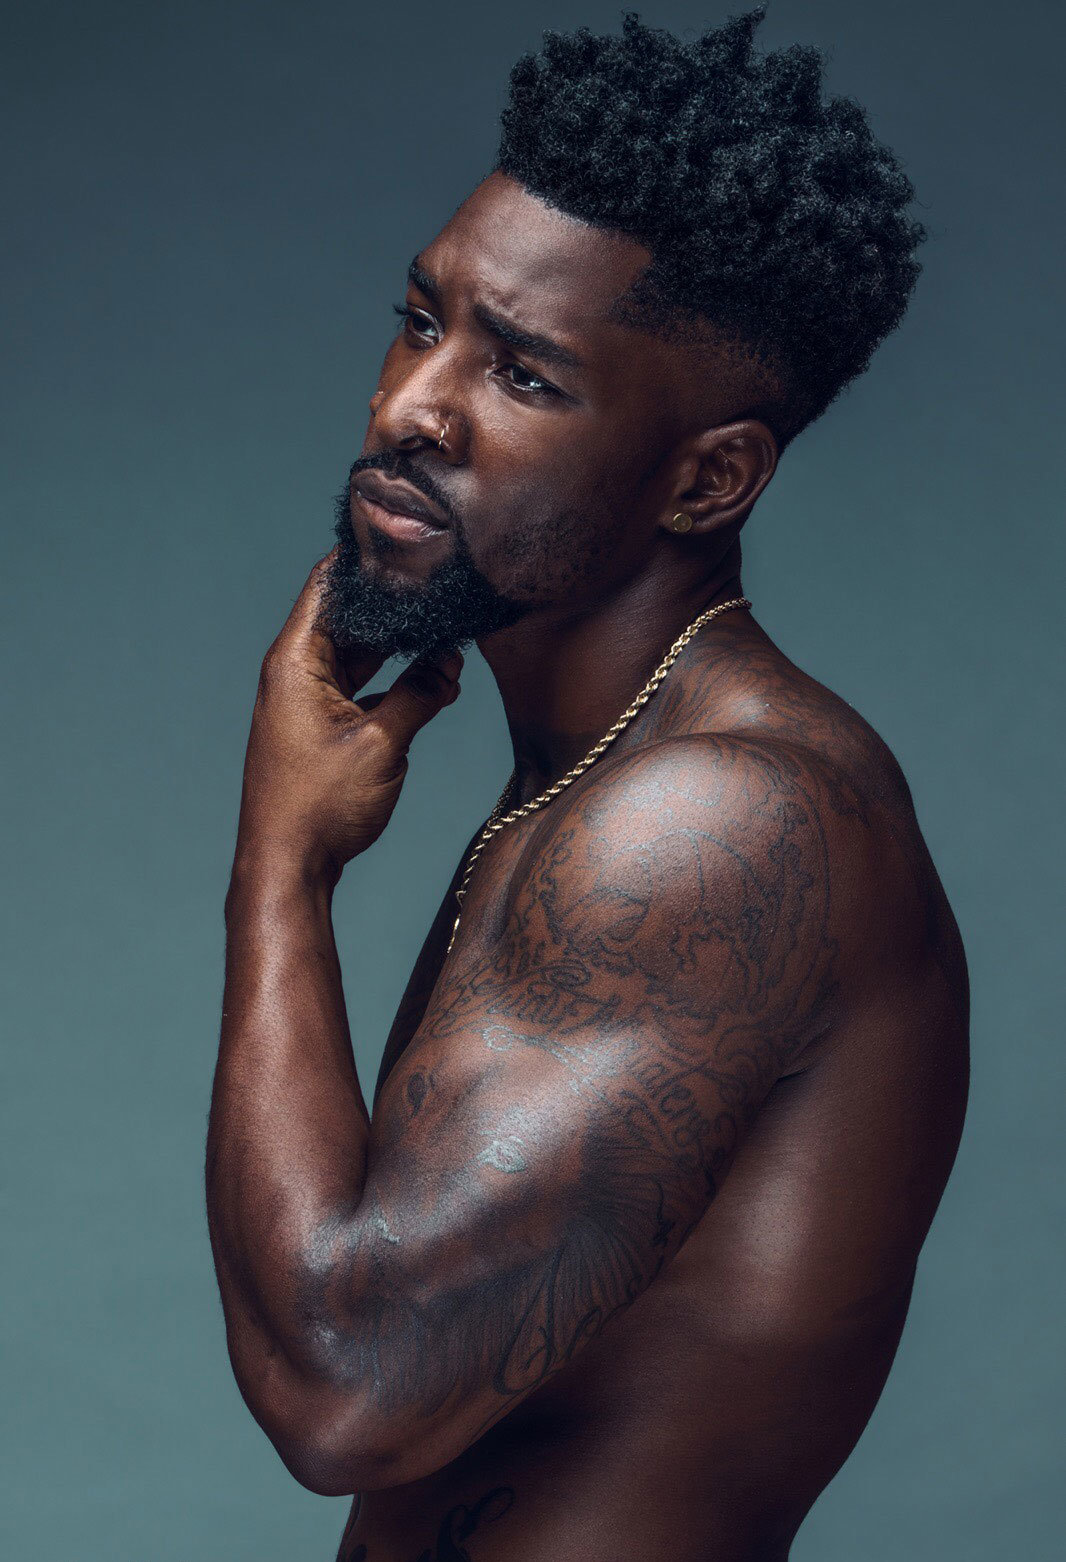bare: (345, 405, 602, 642)
